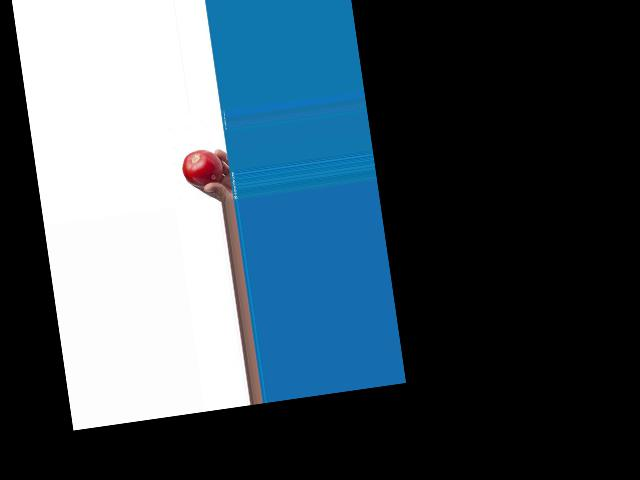tomato: (180, 147, 225, 190)
